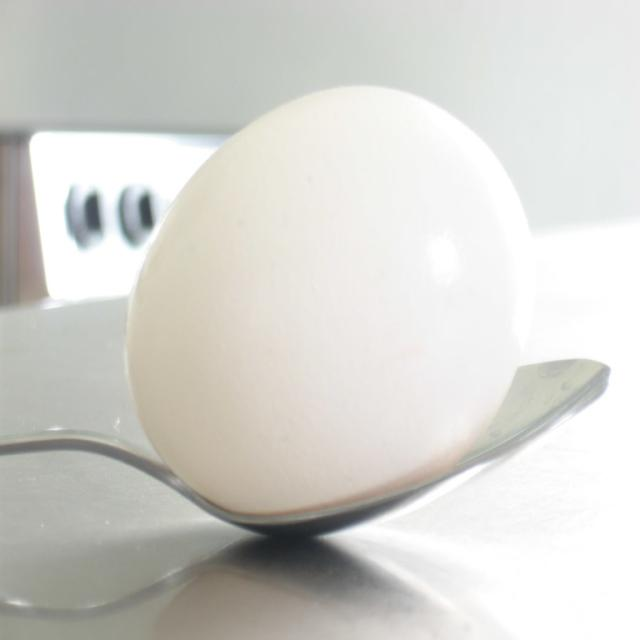Egg: (126, 83, 539, 514)
